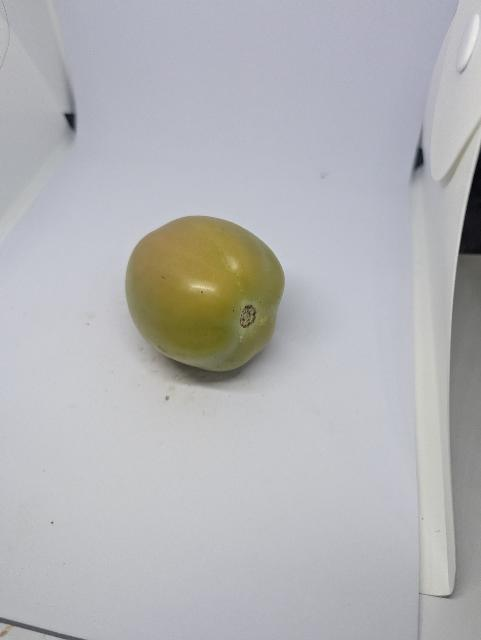breaker: (126, 216, 285, 372)
